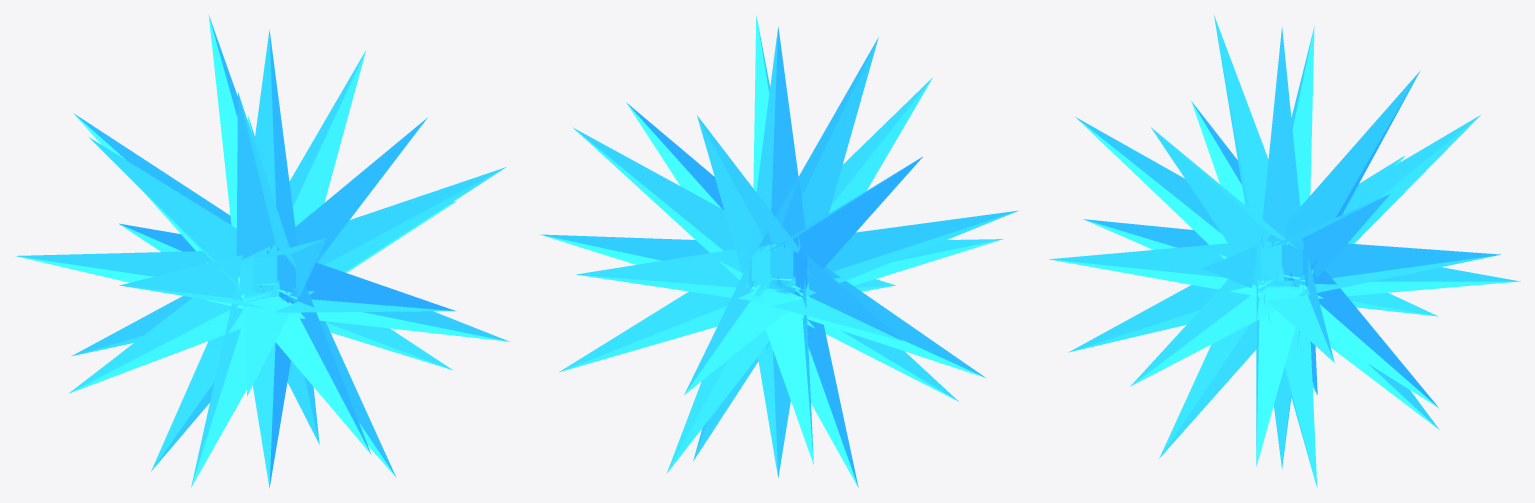
The model's file is burst_blue.glb.
The picture shows the model from 3 angles, left to right: view 1: azimuth 30°, elevation 25°; view 2: azimuth 150°, elevation 25°; view 3: azimuth 270°, elevation 25°; orthographic projection. The views are drawn at different scales.
Parts seen in each view (by area): view 1: burst; view 2: burst; view 3: burst.
Part boxes in pixels (x1,y1,x2,y2): burst: (15,15,509,488); burst: (539,15,1018,487); burst: (1049,15,1520,487).
Bounding box in the file's own units: 1.19 × 1.24 × 1.2.
